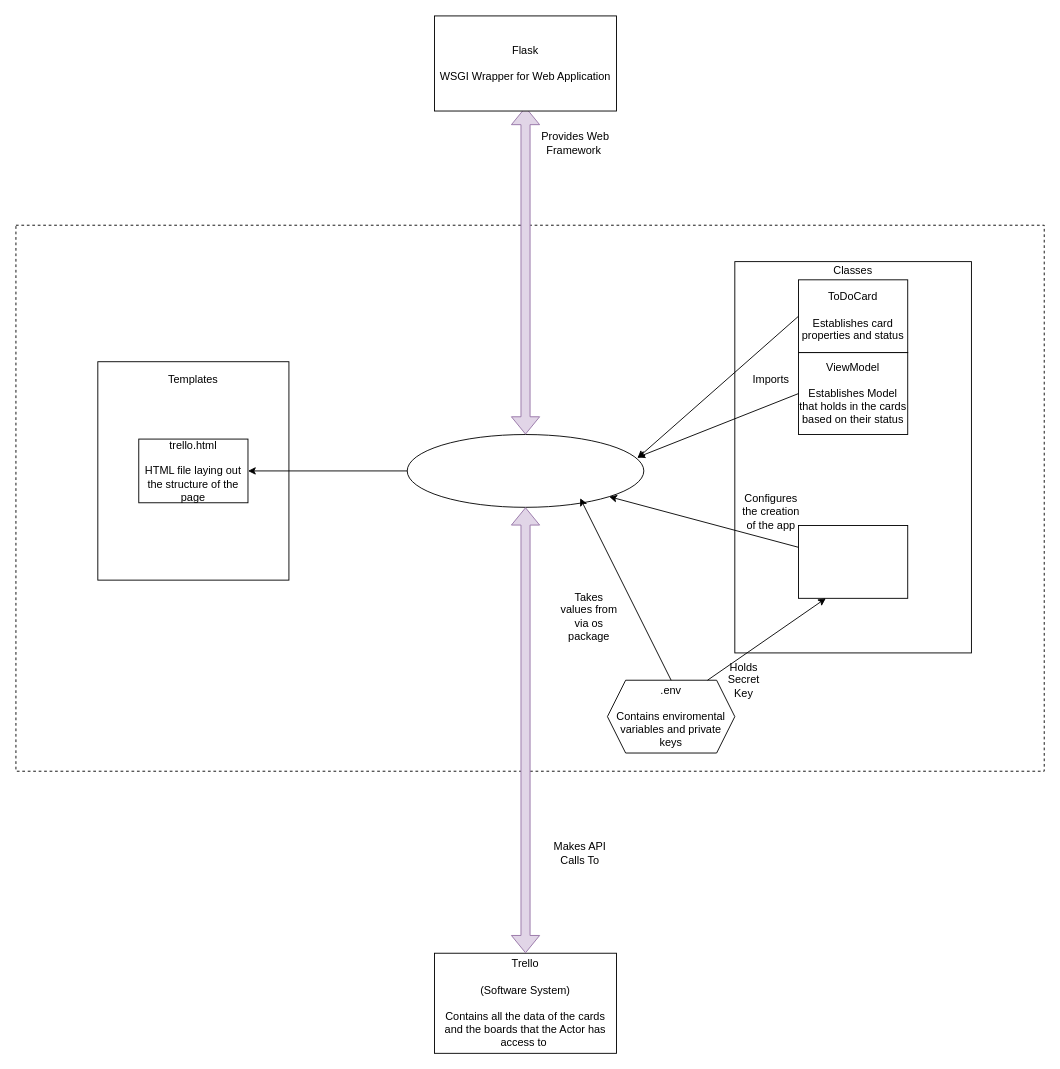
This 1060x1069 diagram has some shape labels left out. Each missing label, with the centre of its shape:
"Application Code Creates the app and contains all the routes for the application" goes at point 525,470.
"Flask Config Contains Base Configuration Variable" goes at point 853,561.
